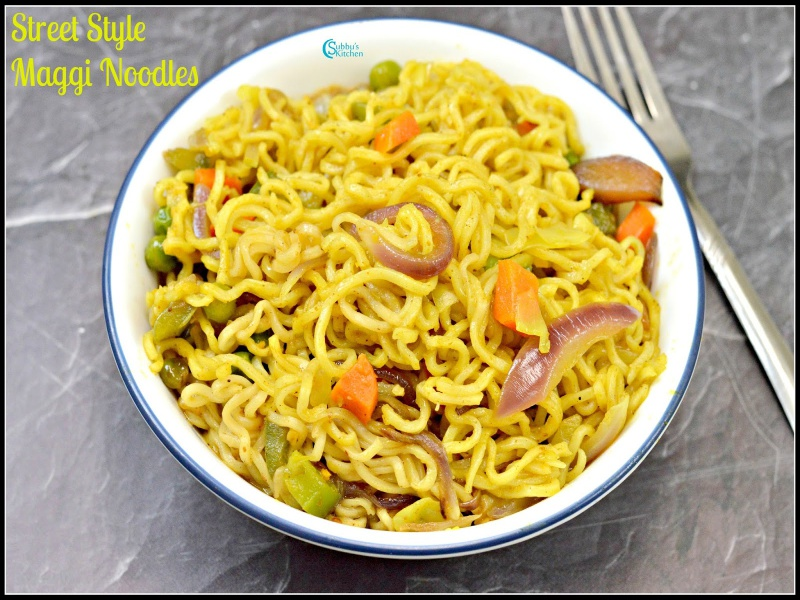maggi: (95, 54, 696, 551)
